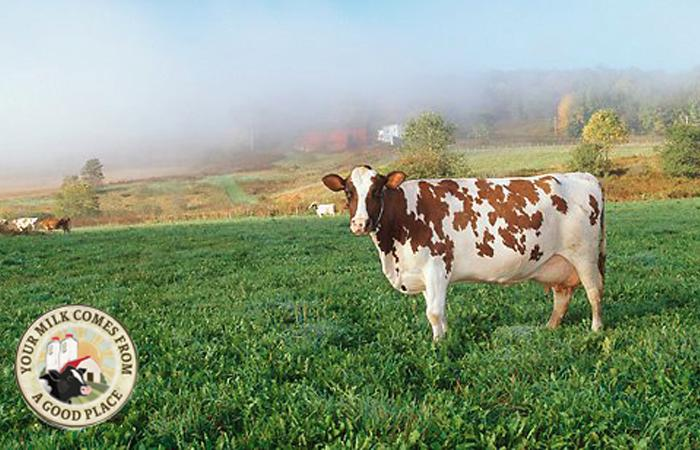cow: (322, 165, 605, 339)
